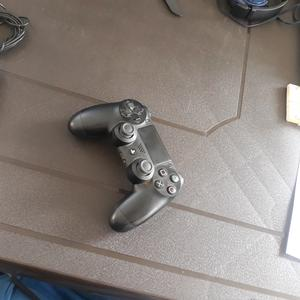controller: (68, 99, 184, 233)
